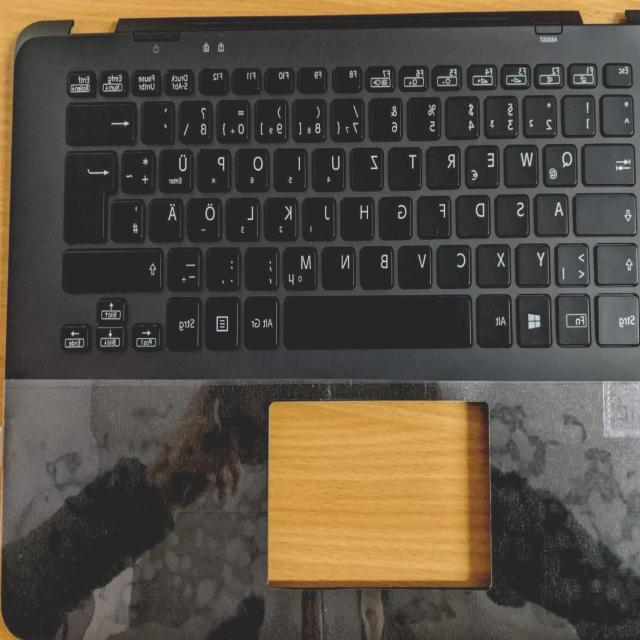0: (219, 96, 253, 140)
1: (565, 91, 599, 134)
2: (526, 91, 560, 135)
3: (487, 91, 522, 135)
4: (449, 93, 483, 136)
5: (410, 94, 444, 137)
6: (372, 95, 406, 138)
7: (333, 95, 367, 139)
8: (295, 95, 329, 139)
9: (258, 96, 292, 139)
a: (538, 190, 572, 234)
accent: (143, 97, 177, 140)
ae: (151, 195, 185, 239)
alt-left: (480, 290, 516, 346)
altgr-right: (247, 293, 282, 347)
b: (363, 242, 398, 286)
c: (440, 241, 475, 285)
caret: (605, 90, 637, 132)
comma: (248, 243, 282, 287)
d: (460, 190, 494, 236)
del: (69, 99, 139, 142)
e: (468, 142, 502, 186)
enter: (66, 148, 119, 241)
f: (421, 192, 455, 236)
g: (382, 192, 416, 236)
h: (344, 194, 378, 237)
hash: (114, 196, 147, 240)
i: (277, 145, 311, 188)
j: (307, 193, 339, 237)
k: (267, 194, 301, 238)
keyboard: (44, 17, 640, 373)
l: (228, 194, 262, 238)
less: (559, 239, 593, 283)
m: (285, 242, 321, 288)
minus: (170, 244, 204, 288)
n: (325, 242, 359, 286)
o: (238, 145, 272, 189)
oe: (190, 194, 224, 238)
p: (200, 145, 234, 189)
plus: (124, 146, 158, 190)
point: (209, 244, 244, 288)
q: (546, 140, 581, 184)
r: (429, 143, 463, 187)
s: (499, 190, 533, 234)
shift-left: (598, 239, 640, 283)
shift-lock: (577, 188, 640, 233)
shift-right: (65, 245, 166, 289)
space: (284, 290, 474, 346)
ss: (182, 97, 216, 140)
strg-left: (599, 290, 640, 344)
strg-right: (168, 294, 204, 348)
t: (391, 144, 425, 187)
tab: (586, 139, 638, 183)
u: (315, 144, 349, 188)
ue: (161, 146, 196, 190)
v: (402, 241, 436, 285)
w: (508, 140, 542, 184)
x: (480, 240, 514, 284)
y: (519, 240, 553, 284)
z: (353, 144, 387, 188)
